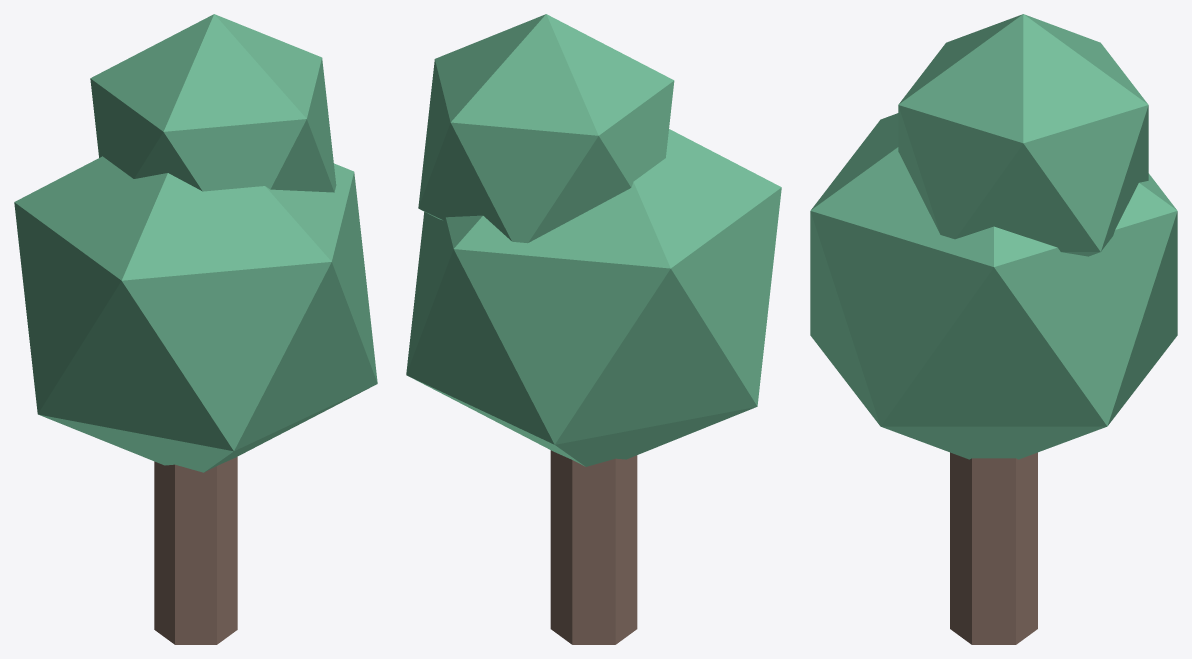
File: tree.glb
3 views of the same model, side by side, from view 1: azimuth 30°, elevation 25°; view 2: azimuth 150°, elevation 25°; view 3: azimuth 270°, elevation 25° (orthographic). The views are drawn at different scales.
Parts seen in each view (by area): view 1: Canopy, CanopyTop, Trunk; view 2: Canopy, CanopyTop, Trunk; view 3: Canopy, CanopyTop, Trunk.
Part boxes in pixels (bbox=[...]): Canopy: bbox=[14, 156, 377, 472]; CanopyTop: bbox=[90, 14, 336, 192]; Trunk: bbox=[154, 456, 237, 644]; Canopy: bbox=[406, 129, 781, 466]; CanopyTop: bbox=[418, 14, 674, 243]; Trunk: bbox=[550, 450, 637, 644]; Canopy: bbox=[810, 113, 1177, 459]; CanopyTop: bbox=[898, 14, 1148, 256]; Trunk: bbox=[950, 452, 1037, 644].
Bounding box in the file's own units: 3.94 × 7.1 × 3.74.
